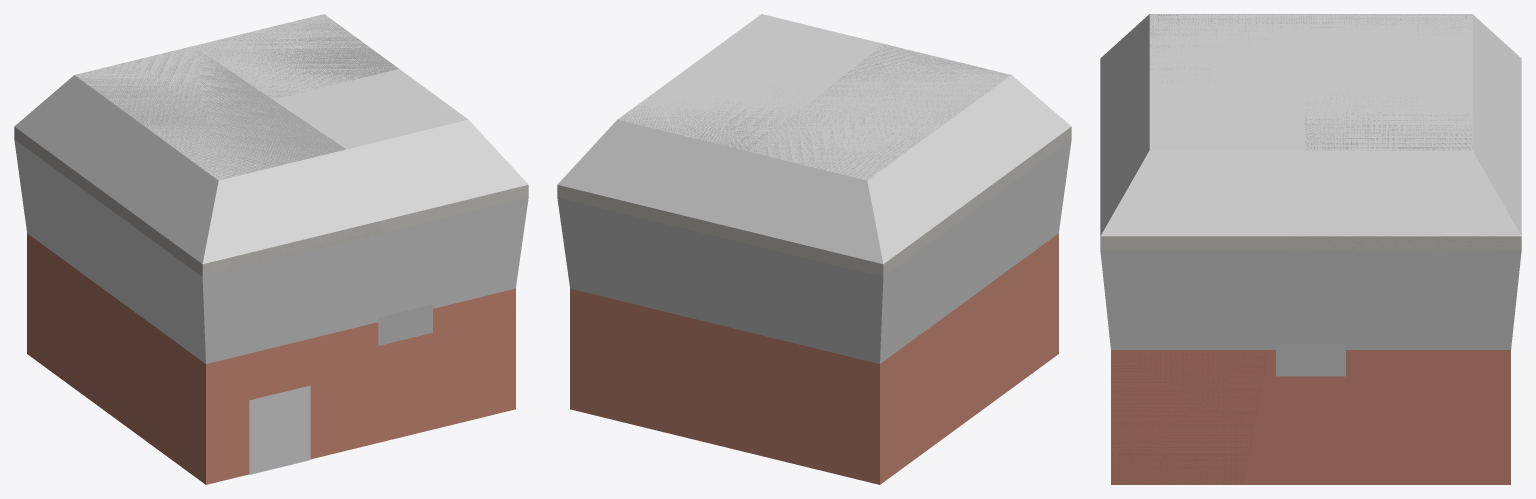
File: bld_shop_c.glb
3 views of the same model, side by side, from view 1: azimuth 30°, elevation 25°; view 2: azimuth 150°, elevation 25°; view 3: azimuth 270°, elevation 25° (orthographic). The views are drawn at different scales.
Visible parts, largest first — view 1: chunk_04, damaged, intact, chunk_05, chunk_00, chunk_06, chunk_01, chunk_02, chunk_07; view 2: chunk_06, damaged, chunk_04, chunk_07, chunk_02, chunk_03, intact, chunk_00, chunk_05; view 3: chunk_05, chunk_07, intact, chunk_01, damaged, chunk_03, chunk_04, chunk_06.
Boxes of the visible parts, <box> form: chunk_04: <box>93,82,382,363</box>; damaged: <box>14,14,515,484</box>; intact: <box>77,15,528,482</box>; chunk_05: <box>274,69,528,317</box>; chunk_00: <box>101,288,377,484</box>; chunk_06: <box>14,40,272,286</box>; chunk_01: <box>378,288,515,442</box>; chunk_02: <box>27,233,101,407</box>; chunk_07: <box>217,14,370,81</box>; chunk_06: <box>703,104,962,363</box>; damaged: <box>557,44,1071,484</box>; chunk_04: <box>782,40,1071,309</box>; chunk_07: <box>557,78,781,321</box>; chunk_02: <box>708,310,954,484</box>; chunk_03: <box>570,288,707,442</box>; intact: <box>557,14,1009,483</box>; chunk_00: <box>954,233,1058,430</box>; chunk_05: <box>674,14,868,103</box>; chunk_05: <box>1100,91,1344,349</box>; chunk_07: <box>1345,91,1521,349</box>; intact: <box>1100,14,1521,484</box>; chunk_01: <box>1111,350,1344,484</box>; damaged: <box>1111,14,1521,484</box>; chunk_03: <box>1345,350,1510,484</box>; chunk_04: <box>1100,14,1344,156</box>; chunk_06: <box>1345,14,1521,156</box>.
Size of the model in its own units: 12 by 10 by 12.
